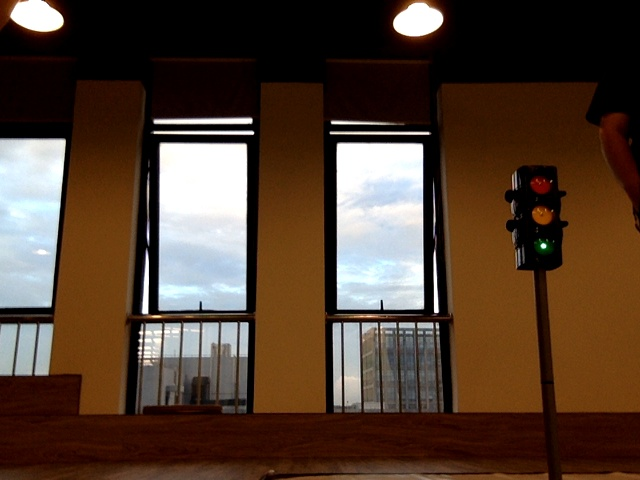green: (519, 172, 561, 261)
